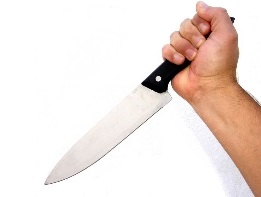knife: (40, 25, 212, 186)
